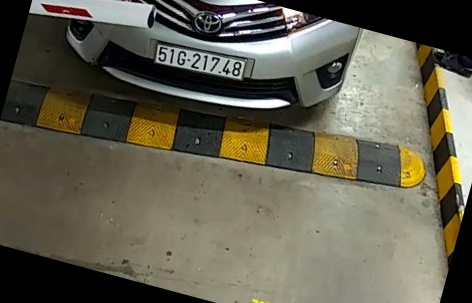plate: (146, 39, 251, 82)
